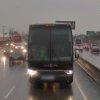Bus: (24, 18, 79, 90)
